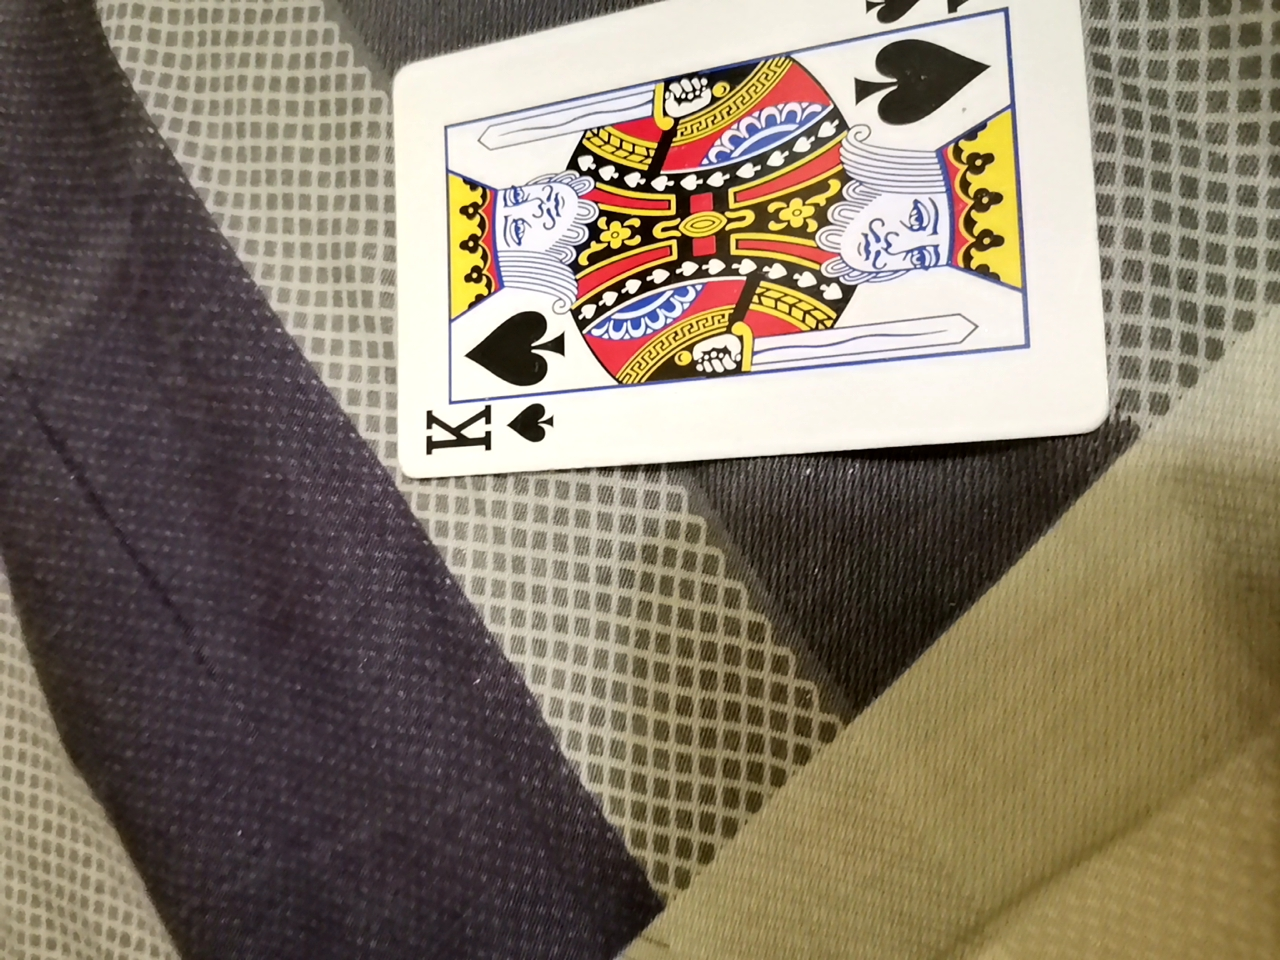ht k: (380, 5, 1113, 477)
